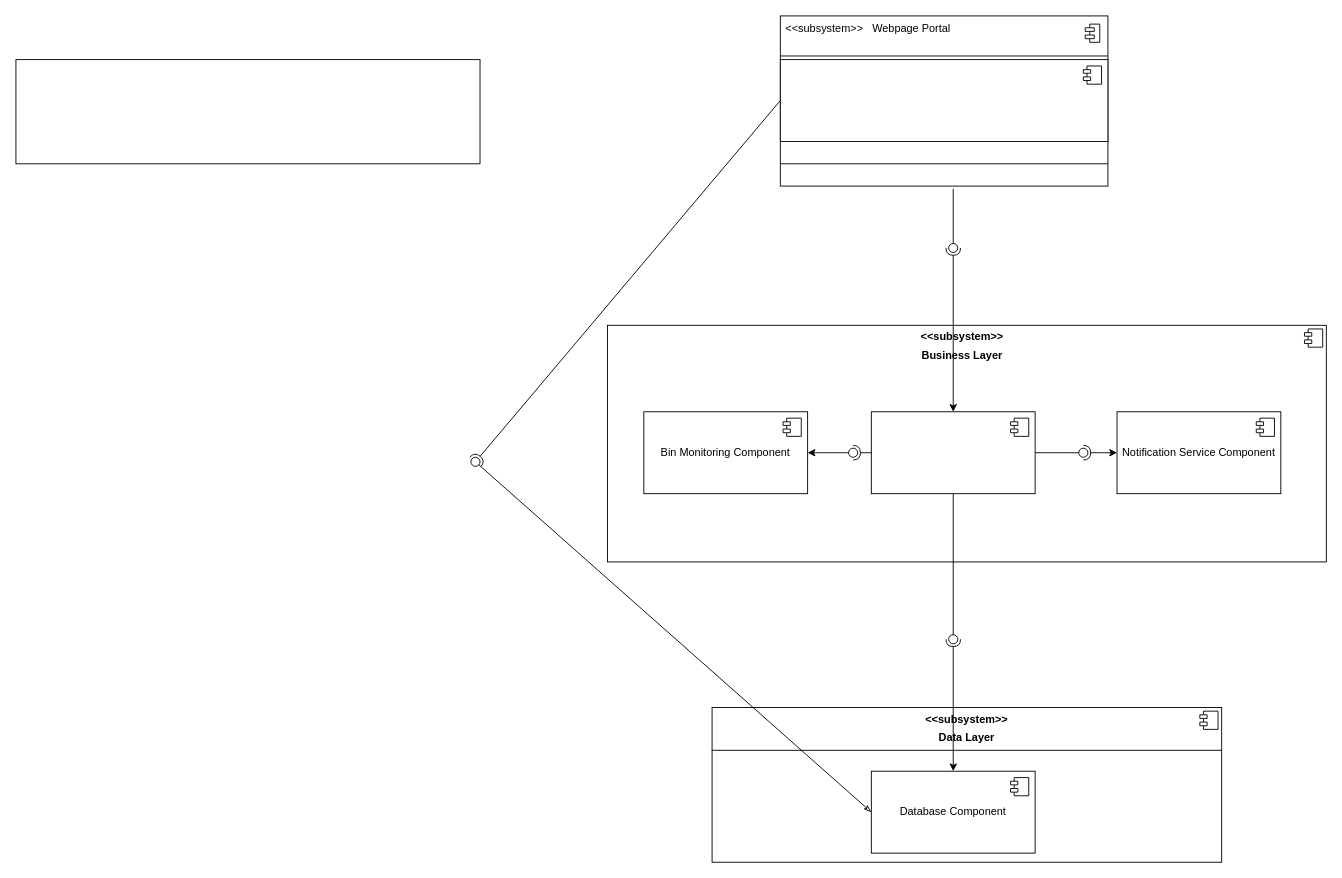
The diagram is 1342 pixels wide and 878 high, and some of its shapes have lost their labels. Each missing label, with the centre of its shape:
PES2UG24CS462 SHASHANK VARMA 5H: [247,111]
Route Manager Component: [952,452]
User Interface Component: [943,100]
